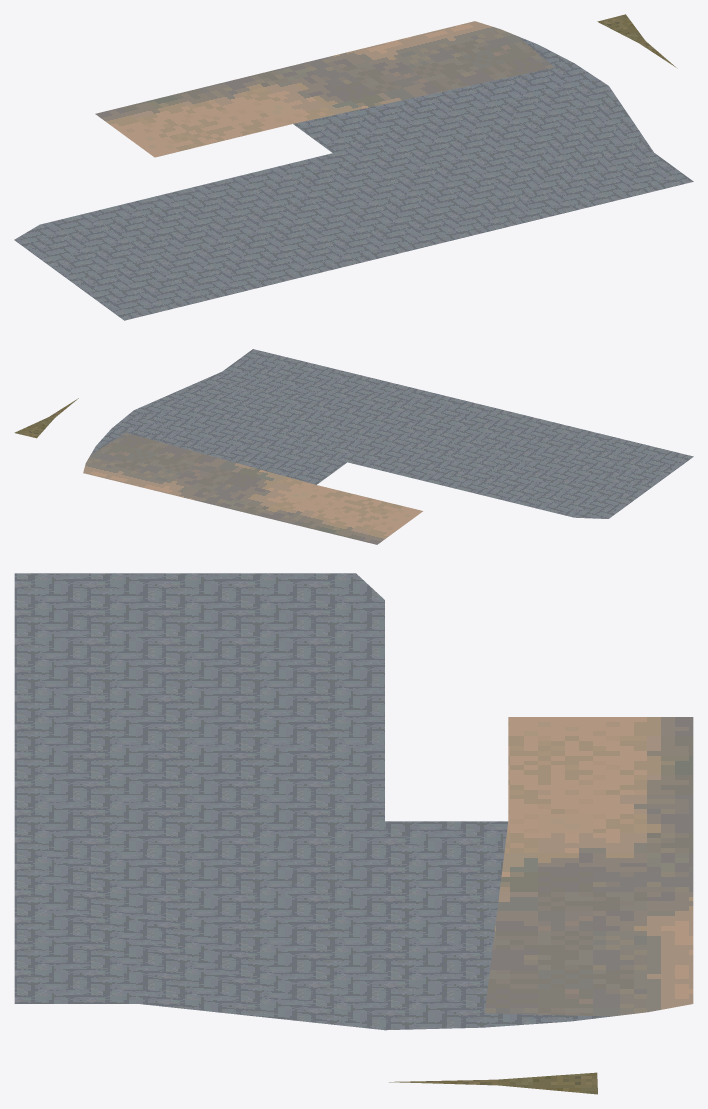
File: lodasnedge17.obj
3 renders of one model, top to bottom at view 1: azimuth 30°, elevation 25°; view 2: azimuth 150°, elevation 25°; view 3: azimuth 270°, elevation 25°, orthographic. The views are drawn at different scales.
Parts seen in each view (by area): view 1: lodasNedge17; view 2: lodasNedge17; view 3: lodasNedge17.
Part boxes in pixels (bbox=[...]): lodasNedge17: bbox=[14, 14, 693, 320]; lodasNedge17: bbox=[14, 349, 693, 544]; lodasNedge17: bbox=[14, 573, 693, 1094].
Size of the model in its own units: 200 by 0.0885 by 110.
Materials: 3 (3 with a texture image).
